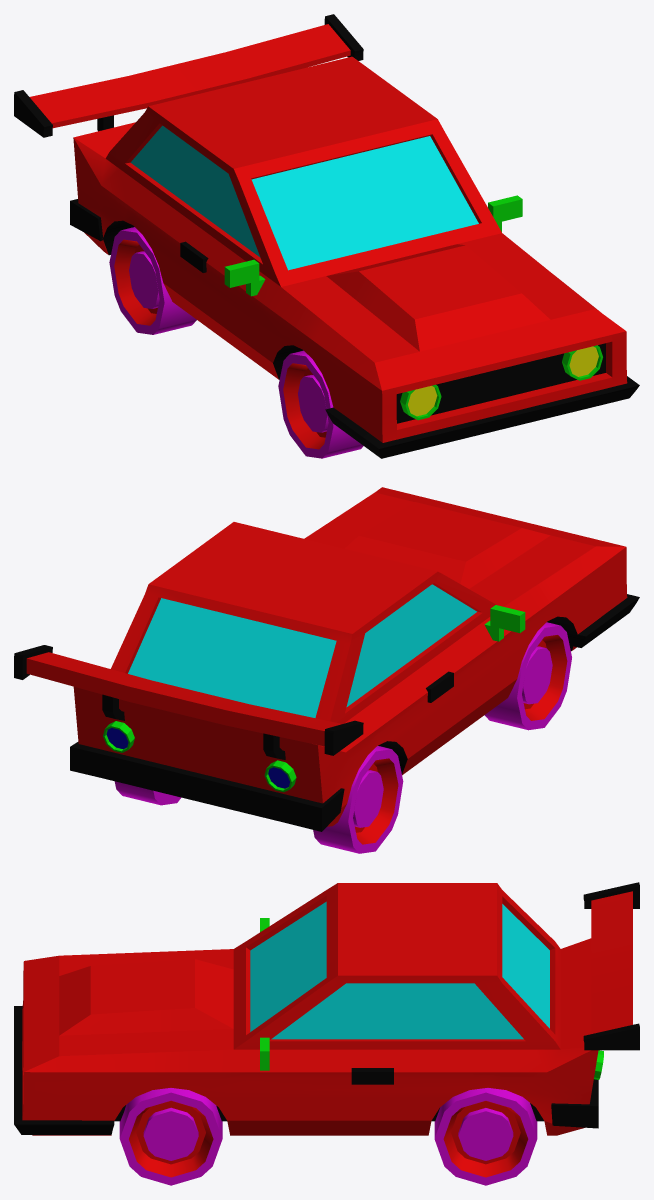
File: Car4.fbx
3 renders of one model, top to bottom at view 1: azimuth 30°, elevation 25°; view 2: azimuth 150°, elevation 25°; view 3: azimuth 270°, elevation 25°, orthographic. The views are drawn at different scales.
Parts seen in each view (by area): view 1: Car4; view 2: Car4; view 3: Car4.
Part boxes in pixels (x1=…): Car4: x1=14, y1=14, x2=639, y2=458; Car4: x1=14, y1=487, x2=639, y2=853; Car4: x1=14, y1=882, x2=639, y2=1185.
Bounding box in the file's own units: 202 × 132 × 368.
